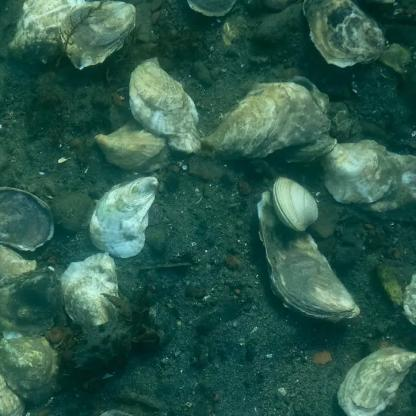Oyster- Indeterminate: (0, 187, 55, 251), (186, 0, 236, 18)
Oyster-Closed: (256, 192, 360, 321), (206, 83, 331, 158), (130, 56, 201, 155), (87, 177, 157, 259), (305, 0, 387, 68), (60, 0, 137, 69), (338, 348, 416, 416), (322, 140, 396, 206), (61, 252, 118, 333), (10, 0, 84, 60), (0, 268, 63, 336), (95, 119, 174, 172), (0, 337, 61, 402), (360, 150, 416, 210), (276, 133, 337, 164), (0, 247, 37, 285), (0, 378, 26, 416), (403, 275, 416, 324)
